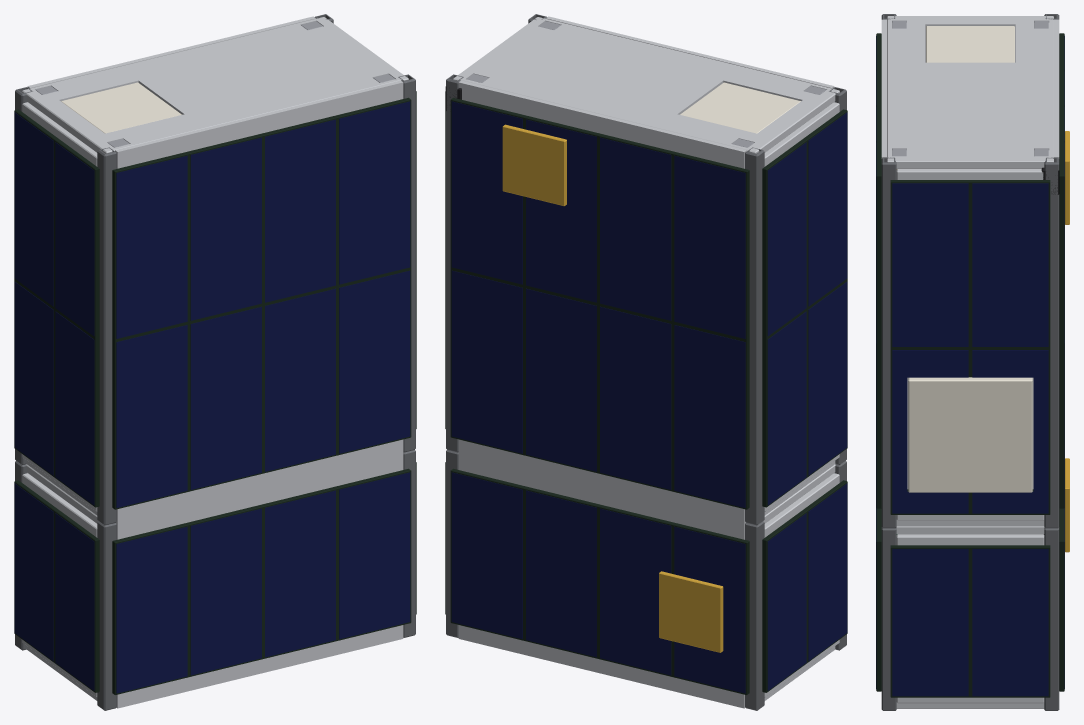
The model's file is TIGRE_6U_stowed.glb.
3 renders of one model, left to right at view 1: azimuth 30°, elevation 25°; view 2: azimuth 150°, elevation 25°; view 3: azimuth 270°, elevation 25°, orthographic.
Parts seen in each view (by area): view 1: TGR-M-PWR-002 Solar panel -y (cells), TGR-D-PWR-002 Solar panel -y (cells), TGR-M-PWR-006 Solar panel -x (cells), TGR-M-STR-012 Outer end plate, TGR-D-PWR-008 Solar panel +x (cells), TGR-M-PWR-001 Solar panel -y, TGR-M-STR-008 Side closeout strip -y, outer end, TGR-M-STR-001 Rail -x-y, TGR-D-STR-007 Side closeout strip -y, separation end, TGR-D-PWR-001 Solar panel -y, TGR-M-PWR-005 Solar panel -x, TGR-M-STR-007 Side closeout strip -y, separation end (+10 smaller); view 2: TGR-M-PWR-004 Solar panel +y (cells), TGR-D-PWR-004 Solar panel +y (cells), TGR-M-PWR-006 Solar panel -x (cells), TGR-M-STR-012 Outer end plate, TGR-D-PWR-008 Solar panel +x (cells), TGR-M-PWR-003 Solar panel +y, TGR-M-STR-010 Side closeout strip +y, outer end, TGR-M-STR-002 Rail -x+y, TGR-D-STR-009 Side closeout strip +y, separation end, TGR-M-PLD-005 Langmuir probe sensor (ram face), TGR-D-PLD-005 Langmuir probe sensor (ram face), TGR-M-PWR-005 Solar panel -x (+12 smaller); view 3: TGR-M-PWR-008 Solar panel +x (cells), TGR-D-PWR-006 Solar panel -x (cells), TGR-M-STR-012 Outer end plate, TGR-M-AVI-011 S-band patch antenna, TGR-M-PWR-007 Solar panel +x, TGR-M-STR-003 Rail +x-y, TGR-M-STR-004 Rail +x+y, TGR-M-PLD-002 GNSS patch antenna, TGR-M-STR-006 Side wall +x, TGR-M-PWR-003 Solar panel +y, TGR-M-PWR-001 Solar panel -y, TGR-D-STR-005 Side wall -x (+14 smaller).
Boxes of the visible parts, bbox=[...] form: TGR-M-PWR-002 Solar panel -y (cells): bbox=[116, 101, 410, 507]; TGR-D-PWR-002 Solar panel -y (cells): bbox=[116, 472, 410, 693]; TGR-M-PWR-006 Solar panel -x (cells): bbox=[14, 112, 94, 505]; TGR-M-STR-012 Outer end plate: bbox=[22, 17, 408, 153]; TGR-D-PWR-008 Solar panel +x (cells): bbox=[14, 483, 94, 690]; TGR-M-PWR-001 Solar panel -y: bbox=[112, 97, 411, 509]; TGR-M-STR-008 Side closeout strip -y, outer end: bbox=[115, 80, 403, 168]; TGR-M-STR-001 Rail -x-y: bbox=[97, 147, 116, 525]; TGR-D-STR-007 Side closeout strip -y, separation end: bbox=[116, 453, 403, 539]; TGR-D-PWR-001 Solar panel -y: bbox=[112, 468, 411, 694]; TGR-M-PWR-005 Solar panel -x: bbox=[14, 109, 99, 507]; TGR-M-STR-007 Side closeout strip -y, separation end: bbox=[116, 439, 403, 522]; TGR-M-PWR-004 Solar panel +y (cells): bbox=[451, 101, 745, 507]; TGR-D-PWR-004 Solar panel +y (cells): bbox=[451, 472, 745, 693]; TGR-M-PWR-006 Solar panel -x (cells): bbox=[767, 112, 847, 505]; TGR-M-STR-012 Outer end plate: bbox=[453, 17, 839, 153]; TGR-D-PWR-008 Solar panel +x (cells): bbox=[767, 483, 847, 690]; TGR-M-PWR-003 Solar panel +y: bbox=[450, 97, 749, 509]; TGR-M-STR-010 Side closeout strip +y, outer end: bbox=[458, 80, 746, 168]; TGR-M-STR-002 Rail -x+y: bbox=[745, 147, 764, 525]; TGR-D-STR-009 Side closeout strip +y, separation end: bbox=[458, 453, 745, 539]; TGR-M-PLD-005 Langmuir probe sensor (ram face): bbox=[502, 124, 566, 206]; TGR-D-PLD-005 Langmuir probe sensor (ram face): bbox=[659, 571, 723, 652]; TGR-M-PWR-005 Solar panel -x: bbox=[762, 109, 847, 507]; TGR-M-PWR-008 Solar panel +x (cells): bbox=[892, 183, 1048, 513]; TGR-D-PWR-006 Solar panel -x (cells): bbox=[892, 549, 1048, 696]; TGR-M-STR-012 Outer end plate: bbox=[887, 16, 1053, 168]; TGR-M-AVI-011 S-band patch antenna: bbox=[908, 377, 1032, 492]; TGR-M-PWR-007 Solar panel +x: bbox=[890, 180, 1050, 514]; TGR-M-STR-003 Rail +x-y: bbox=[881, 157, 896, 528]; TGR-M-STR-004 Rail +x+y: bbox=[1044, 157, 1059, 528]; TGR-M-PLD-002 GNSS patch antenna: bbox=[926, 26, 1014, 62]; TGR-M-STR-006 Side wall +x: bbox=[896, 169, 1044, 520]; TGR-M-PWR-003 Solar panel +y: bbox=[1059, 33, 1064, 508]; TGR-M-PWR-001 Solar panel -y: bbox=[876, 33, 881, 508]; TGR-D-STR-005 Side wall -x: bbox=[896, 534, 1044, 703].
Size of the model in its own units: 209 by 341 by 109.
